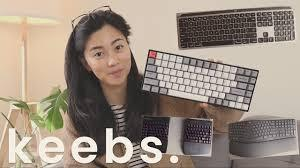keyboard: (139, 50, 259, 113), (176, 6, 295, 49), (228, 118, 298, 144), (182, 117, 213, 157), (143, 115, 168, 154)
